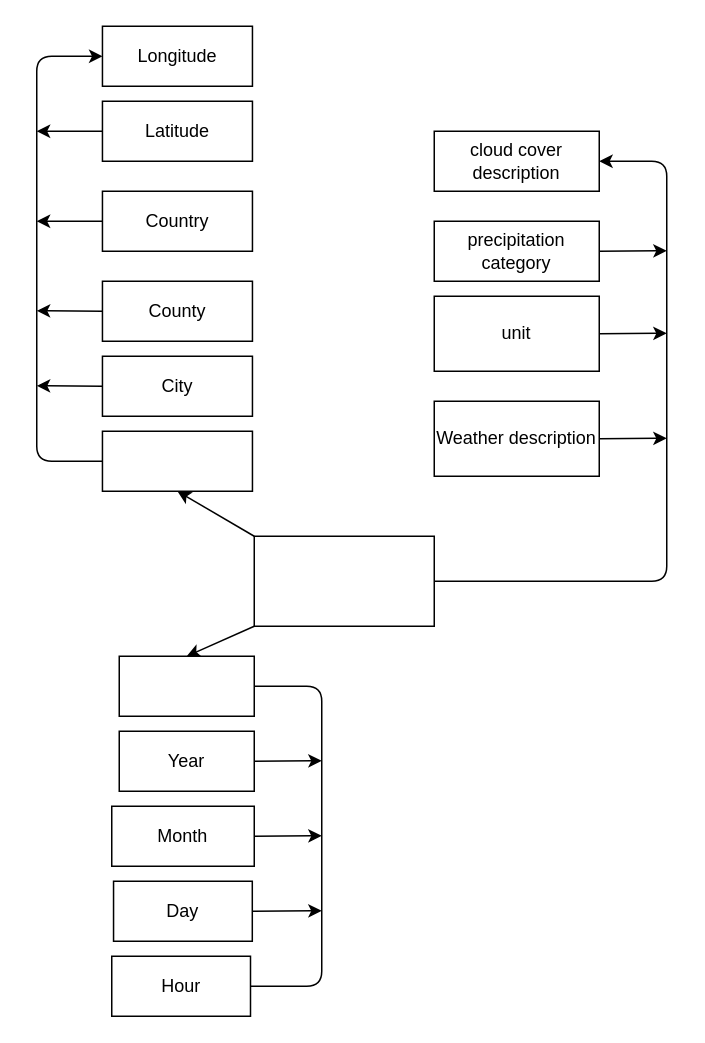
This 705x1043 diagram has some shape labels left out. The centre of each missing label's shape, as x and y in pixels:
Location(city): the point at 176,460
Time: the point at 186,685
weather_data: the point at 343,580
